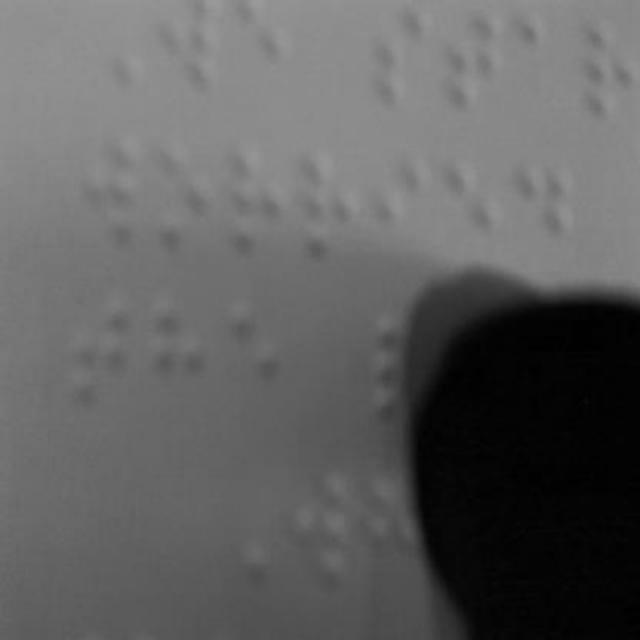braiile: (290, 452, 362, 598), (214, 284, 282, 426), (65, 284, 132, 428), (290, 136, 362, 268), (140, 289, 206, 433), (512, 152, 580, 286), (70, 124, 136, 260), (218, 130, 286, 262), (141, 132, 211, 260), (441, 147, 504, 285), (368, 142, 429, 270)
